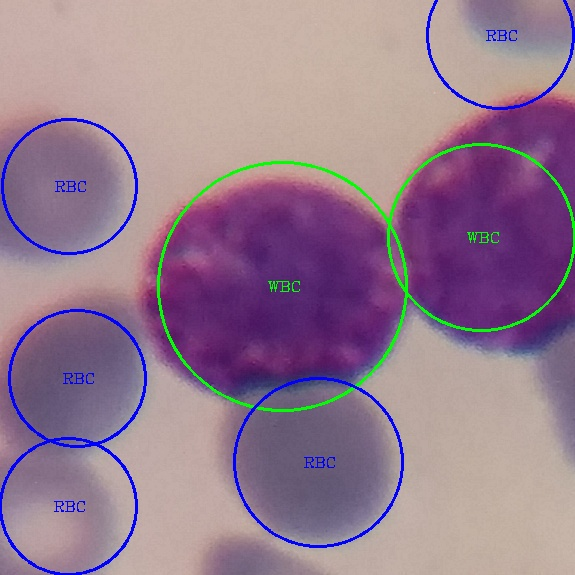RBC: (207, 373, 406, 549), (1, 276, 154, 483), (0, 107, 132, 279), (0, 444, 127, 574)
WBC: (133, 164, 400, 411), (384, 92, 574, 363)
